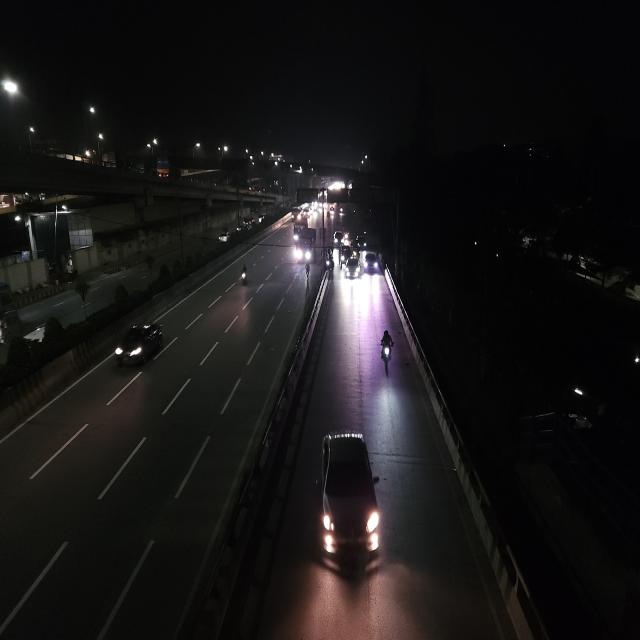bus: (295, 234, 315, 264)
car: (314, 424, 384, 586), (112, 318, 166, 368), (362, 249, 381, 277), (343, 253, 361, 281), (332, 229, 346, 246), (217, 228, 231, 244), (356, 234, 369, 250)
motorcycle: (376, 327, 396, 375), (237, 262, 251, 290)
pedestrian: (305, 261, 310, 282)
